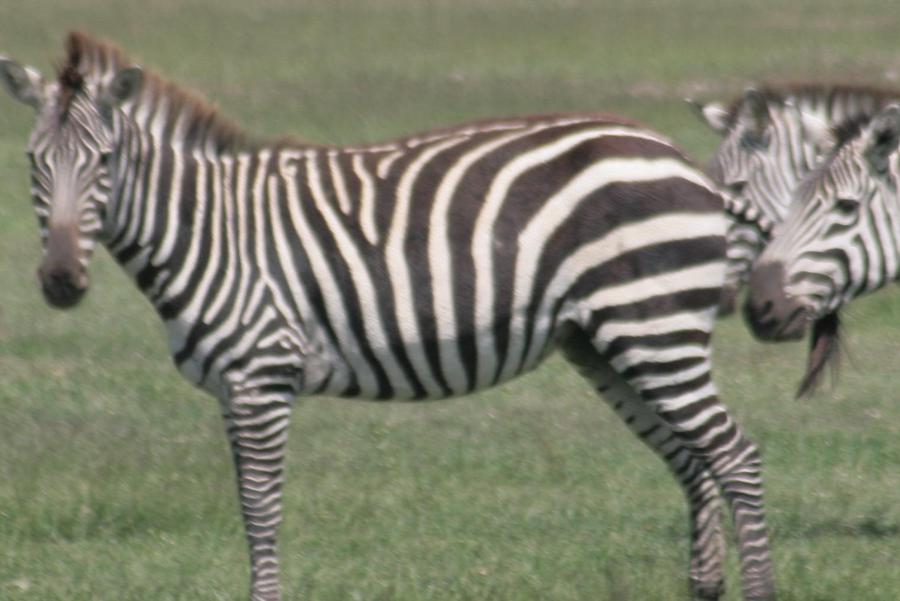zebra_plains: (124, 114, 753, 406)
